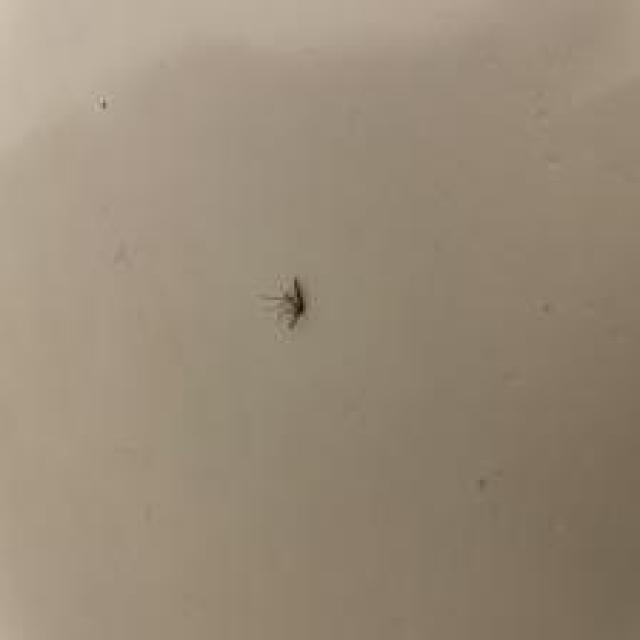Culex: (262, 276, 307, 330)
